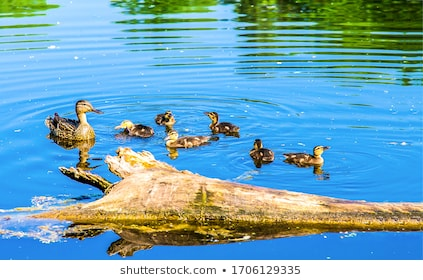duck: (36, 92, 102, 149), (280, 138, 340, 177), (159, 126, 215, 153), (194, 108, 244, 135), (247, 136, 279, 171), (109, 118, 158, 140)
